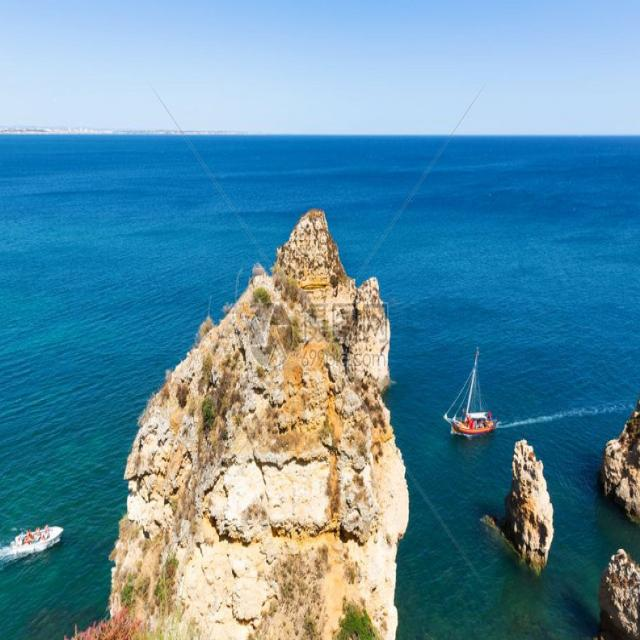passenger ship: (10, 511, 78, 573)
reef: (468, 432, 577, 584)
sailboat: (446, 338, 506, 442)
